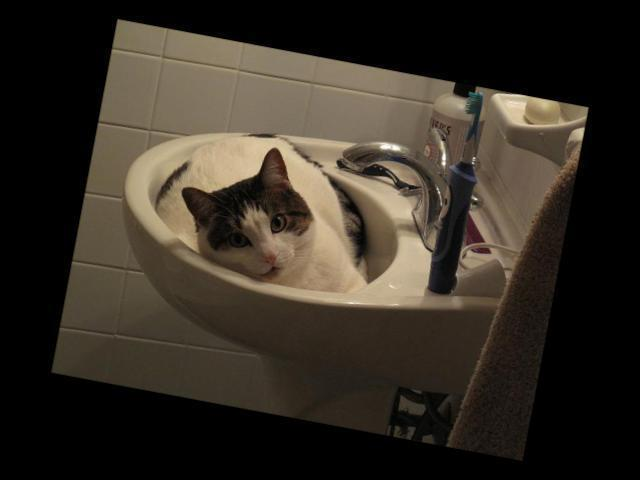Lavamanos: (94, 90, 560, 417)
Otro Obstaculo: (145, 103, 395, 313)
